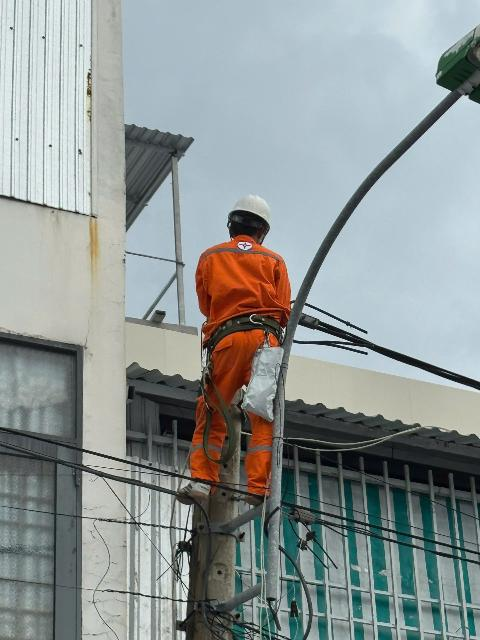harness: (191, 299, 288, 349)
helmet: (214, 193, 281, 229)
shoes: (176, 475, 213, 504)
